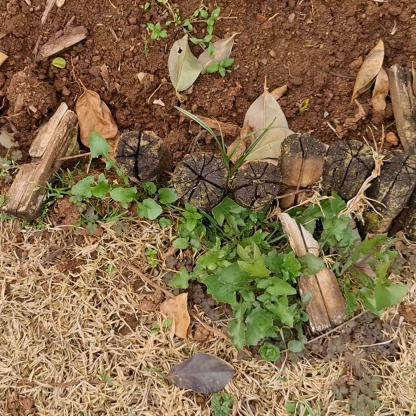Weeds: (70, 135, 407, 362), (149, 0, 237, 77)
